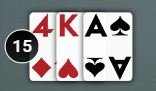4: (28, 12, 56, 40)
a: (82, 11, 109, 40)
k: (55, 12, 83, 40)
